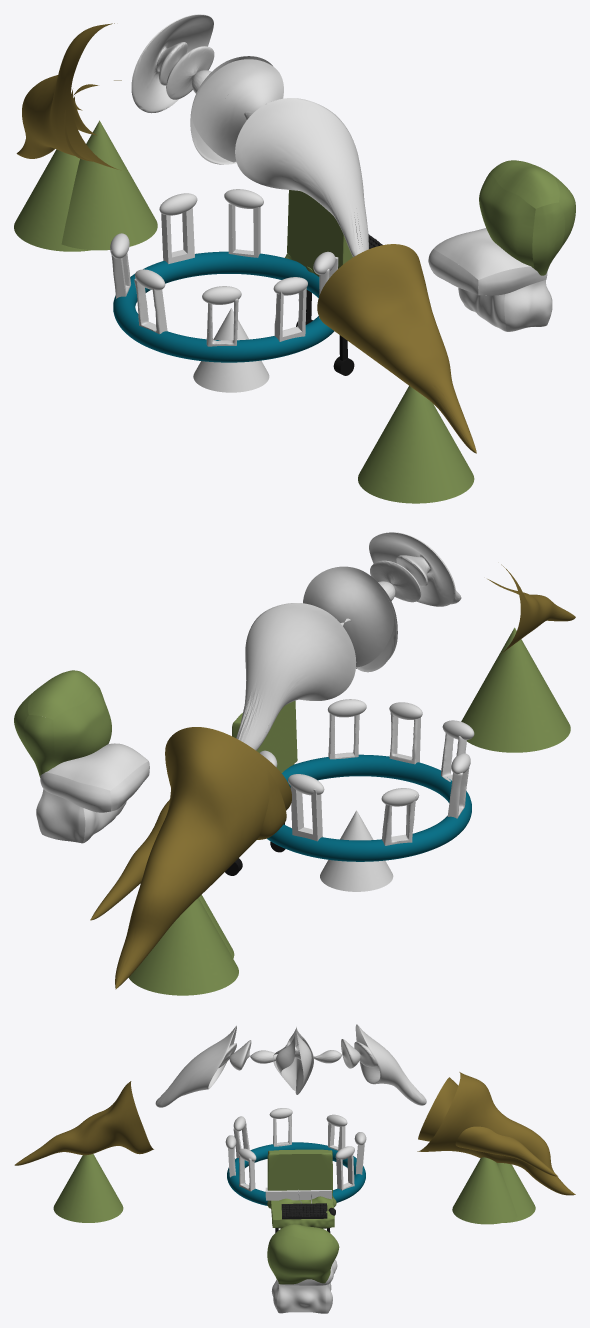
Rendered from nomad-project-13.glb.
3 views of the same model, one above another, from view 1: azimuth 30°, elevation 25°; view 2: azimuth 150°, elevation 25°; view 3: azimuth 270°, elevation 25° (orthographic). The views are drawn at different scales.
Visible parts, largest first — view 1: Main_8, Cone_2, Main_4, Torus, Main_5, Bottom_24, Cone_3, Main_6, Bottom_7, Right, Main_7, Top_3 (+10 smaller); view 2: Cone_3, Main_8, Main_4, Torus, Main_6, Bottom_24, Bottom_7, Cone_1, Top_3, Main_7, Left_5, Front_4 (+8 smaller); view 3: Main_8, Cone_3, Cone_2, Main_4, Main_5, Cone_1, Top_7, Left, Torus, Right_4, Main_6, Bottom_24 (+4 smaller).
Part boxes in pixels (bbox=[...]): Main_8: bbox=[131, 14, 368, 256]; Cone_2: bbox=[317, 244, 476, 453]; Main_4: bbox=[358, 386, 474, 503]; Torus: bbox=[113, 251, 334, 362]; Main_5: bbox=[61, 120, 157, 250]; Bottom_24: bbox=[191, 59, 283, 164]; Cone_3: bbox=[16, 23, 118, 169]; Main_6: bbox=[14, 149, 91, 251]; Bottom_7: bbox=[479, 173, 535, 269]; Right: bbox=[287, 190, 343, 276]; Main_7: bbox=[193, 308, 269, 392]; Top_3: bbox=[433, 228, 530, 279]; Cone_3: bbox=[115, 727, 291, 989]; Main_8: bbox=[236, 532, 461, 750]; Main_4: bbox=[461, 627, 570, 752]; Torus: bbox=[267, 754, 471, 861]; Main_6: bbox=[128, 898, 238, 995]; Bottom_24: bbox=[303, 566, 397, 668]; Bottom_7: bbox=[53, 688, 111, 767]; Cone_1: bbox=[90, 770, 286, 920]; Top_3: bbox=[45, 743, 148, 790]; Main_7: bbox=[320, 810, 393, 891]; Left_5: bbox=[28, 670, 99, 719]; Front_4: bbox=[36, 789, 85, 843]; Main_8: bbox=[155, 1024, 426, 1107]; Cone_3: bbox=[417, 1072, 575, 1195]; Cone_2: bbox=[14, 1081, 153, 1165]; Main_4: bbox=[53, 1154, 123, 1222]; Main_5: bbox=[452, 1157, 517, 1224]; Cone_1: bbox=[418, 1077, 557, 1176]; Top_7: bbox=[270, 1235, 335, 1284]; Left: bbox=[268, 1154, 332, 1197]; Torus: bbox=[227, 1142, 365, 1205]; Right_4: bbox=[276, 1284, 330, 1313]; Main_6: bbox=[497, 1163, 535, 1222]; Bottom_24: bbox=[276, 1027, 311, 1087].
Size of the model in its own units: 4.39 by 3.16 by 8.05.
